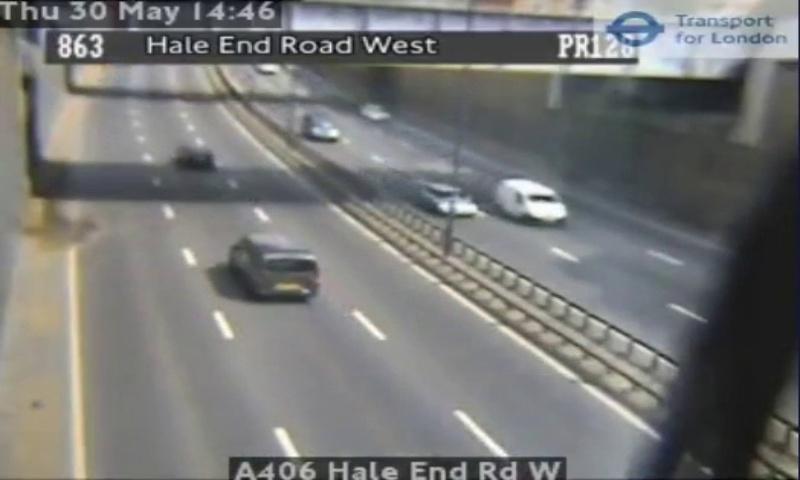van: (230, 235, 319, 298)
